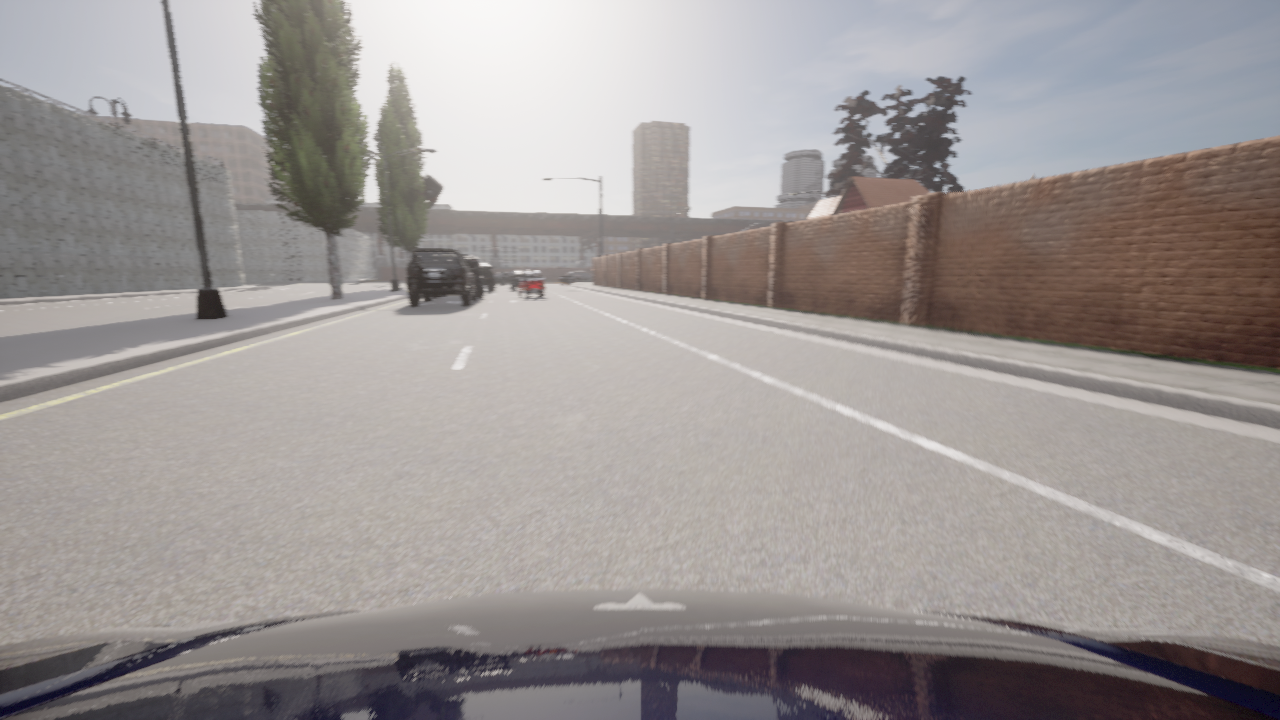cyclist: (0, 588, 1279, 719), (406, 248, 476, 305), (433, 255, 485, 297), (409, 172, 442, 208), (517, 270, 545, 297), (560, 270, 592, 284), (480, 261, 494, 290), (508, 270, 525, 289), (493, 272, 512, 284), (484, 283, 487, 284)
